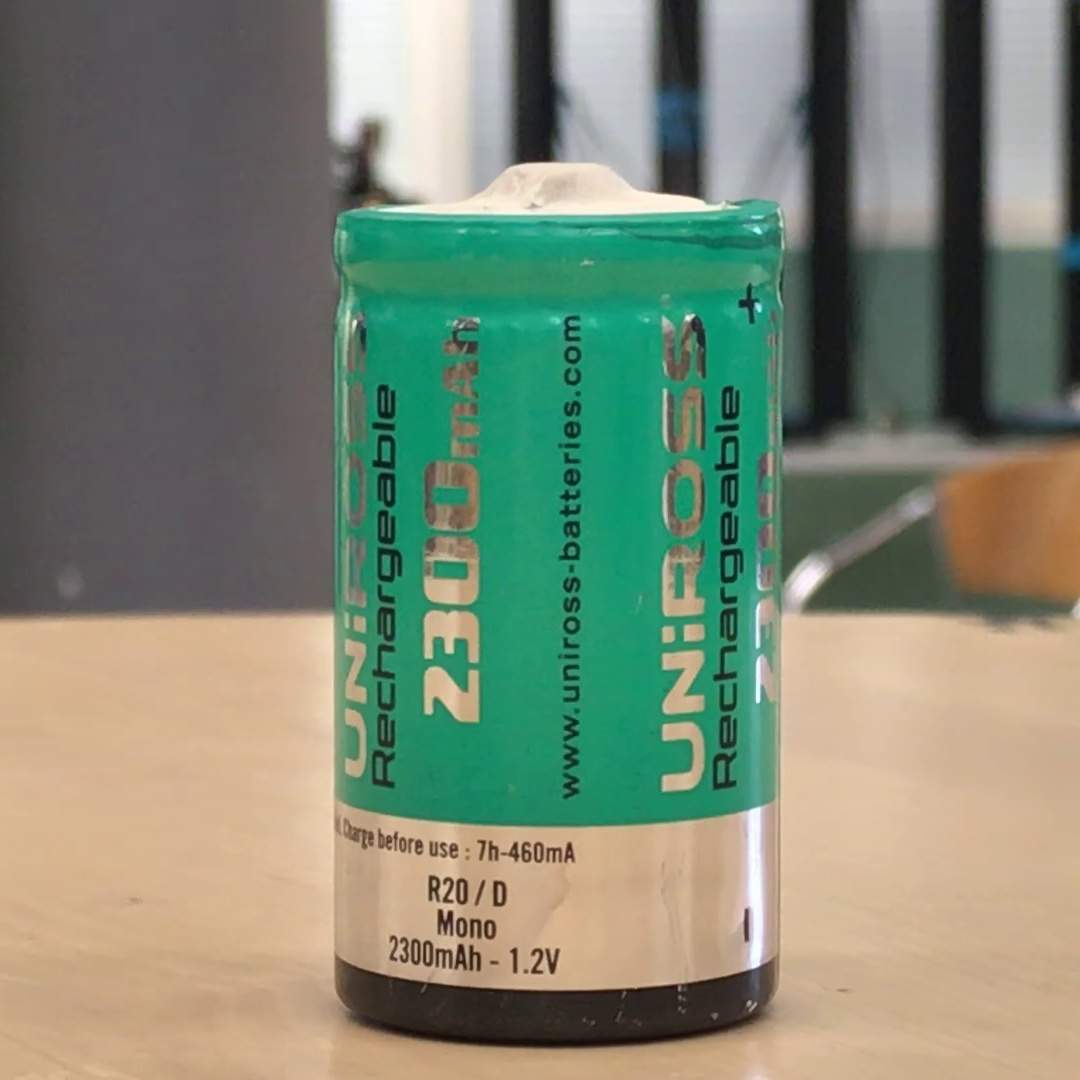keyword: (500, 938, 570, 984)
